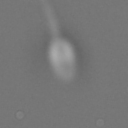normal: (39, 1, 66, 38)
